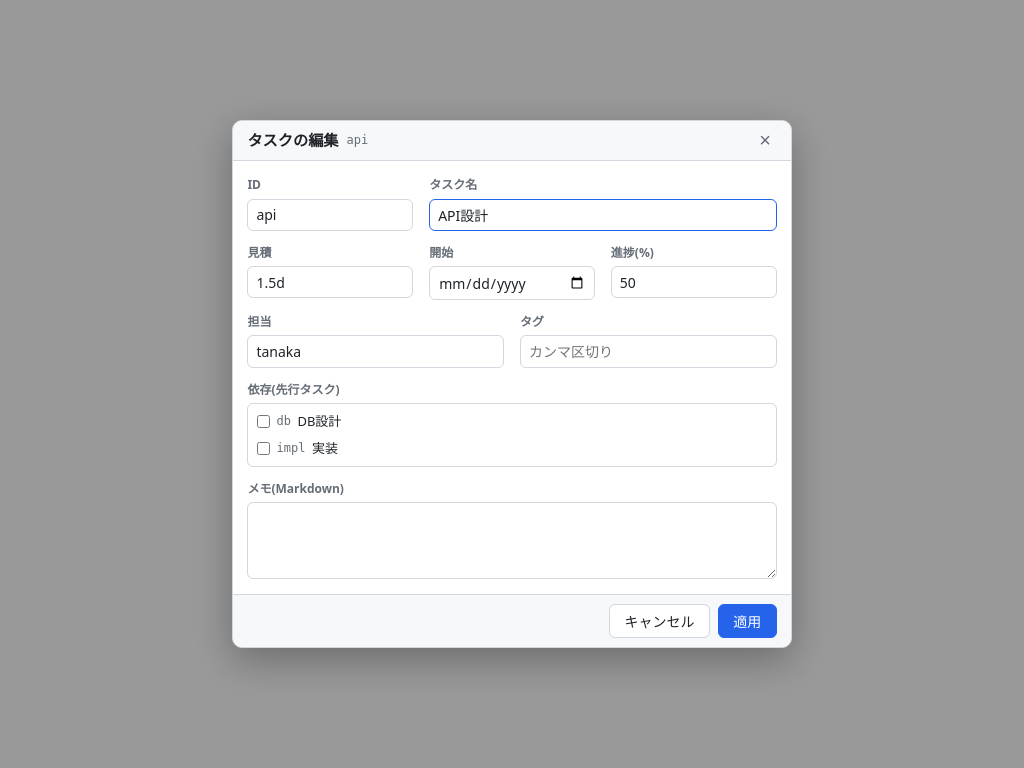
TaskDialog › id を空にするとエラーが出て[適用]できない
Clear the field labelled "ID" at coordinates (330, 215), box [247,199,413,231]
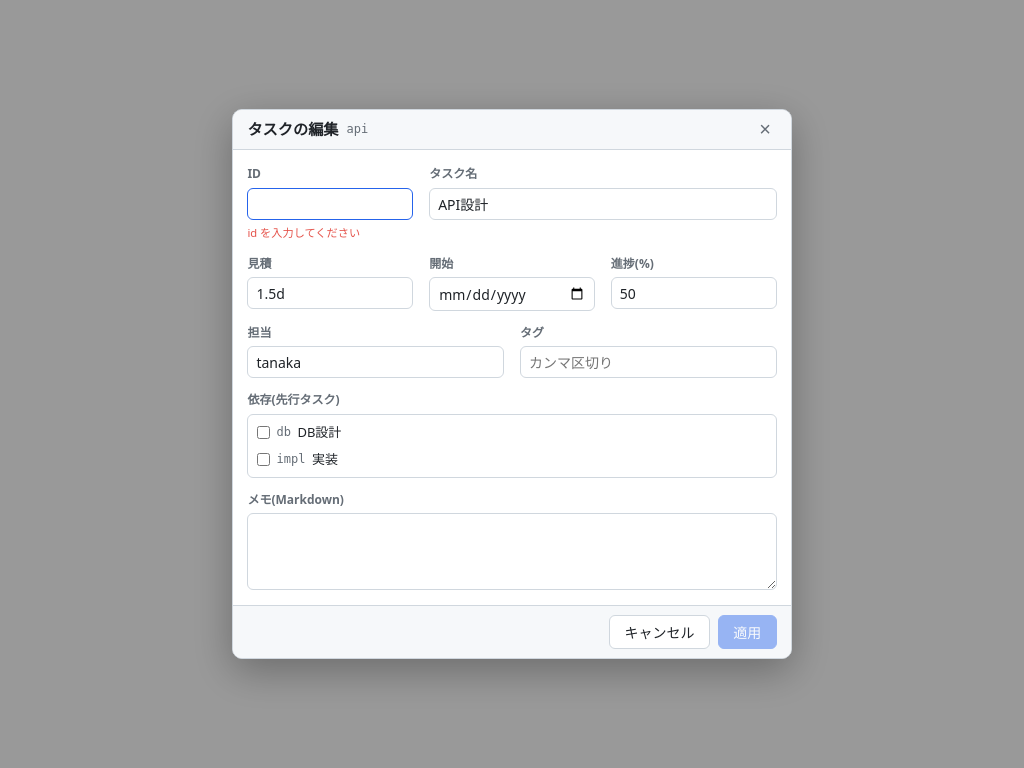
Result: the text "id を入力してください" is shown at [247,225,360,240]
Result: the button "適用" is disabled at [718,615,777,649]
